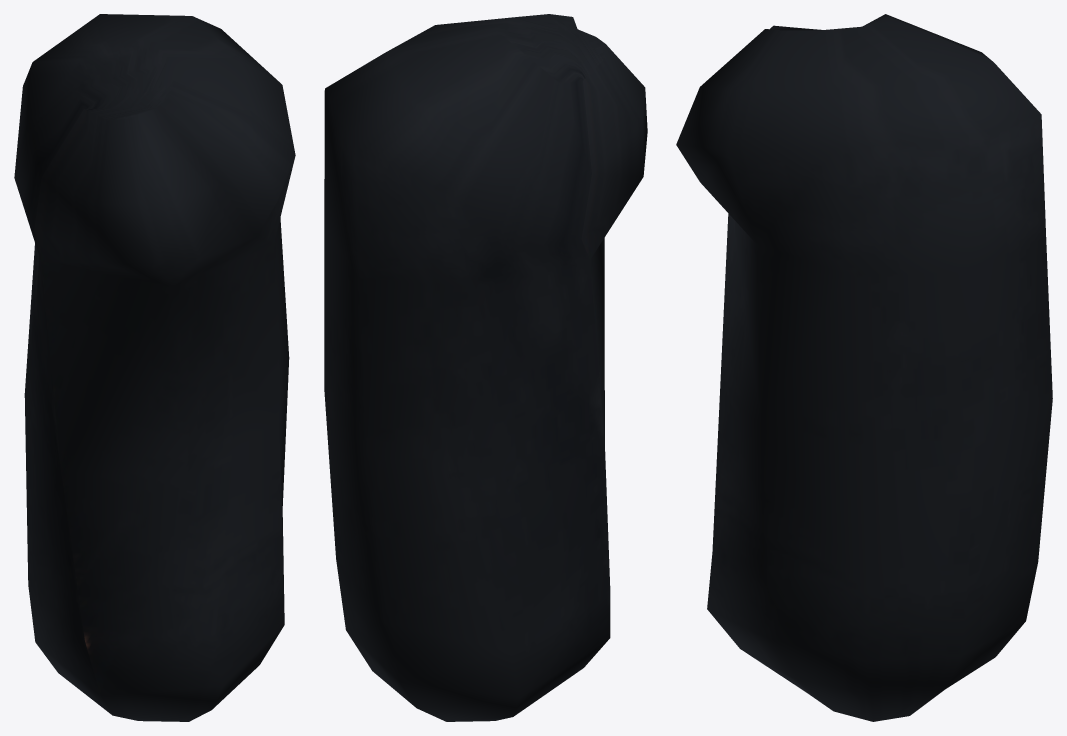
File: RightLeg1.dae
3 renders of one model, left to right at view 1: azimuth 30°, elevation 25°; view 2: azimuth 150°, elevation 25°; view 3: azimuth 270°, elevation 25°, orthographic.
Parts seen in each view (by area): view 1: RightLeg1; view 2: RightLeg1; view 3: RightLeg1.
Part boxes in pixels (bbox=[...]): RightLeg1: bbox=[14, 14, 295, 721]; RightLeg1: bbox=[324, 14, 647, 721]; RightLeg1: bbox=[676, 14, 1052, 721].
Bounding box in the file's own units: 0.1619 × 0.2219 × 0.4331.
Materials: 1 (1 with a texture image).
